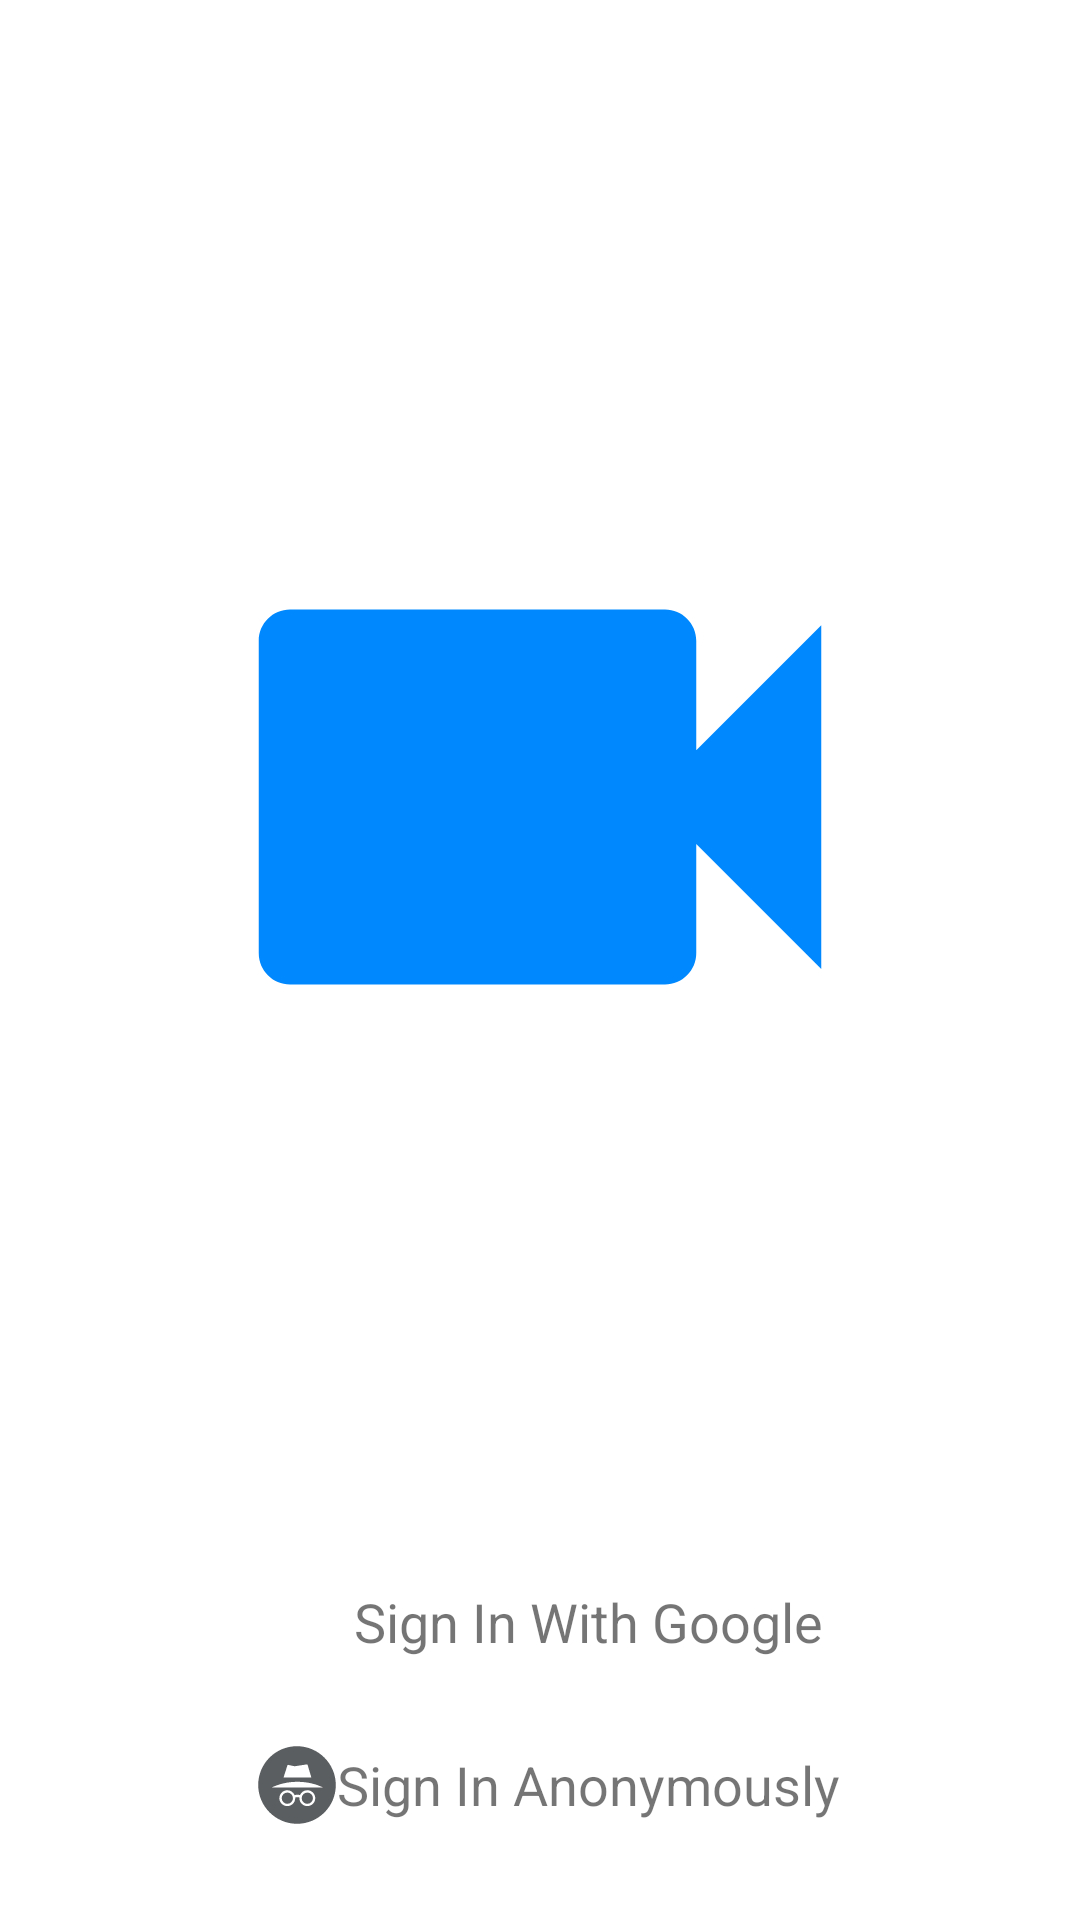

Where icons sit on this 1080 × 1920 app screen, as BBox(x1, y1, x2, y2):
incognito: BBox(258, 1746, 336, 1824)
